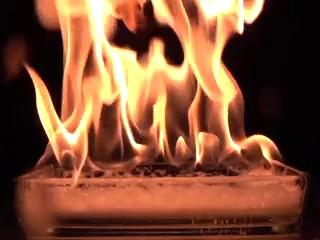Fire: (8, 1, 278, 181)
